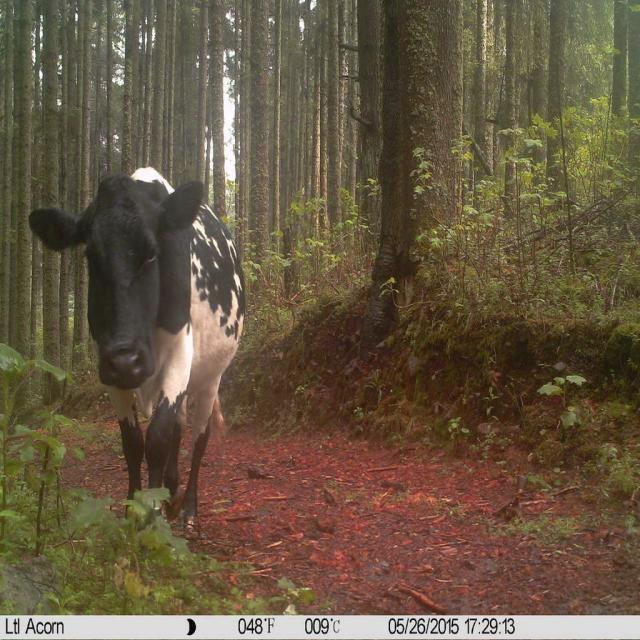cow: (30, 168, 245, 524)
